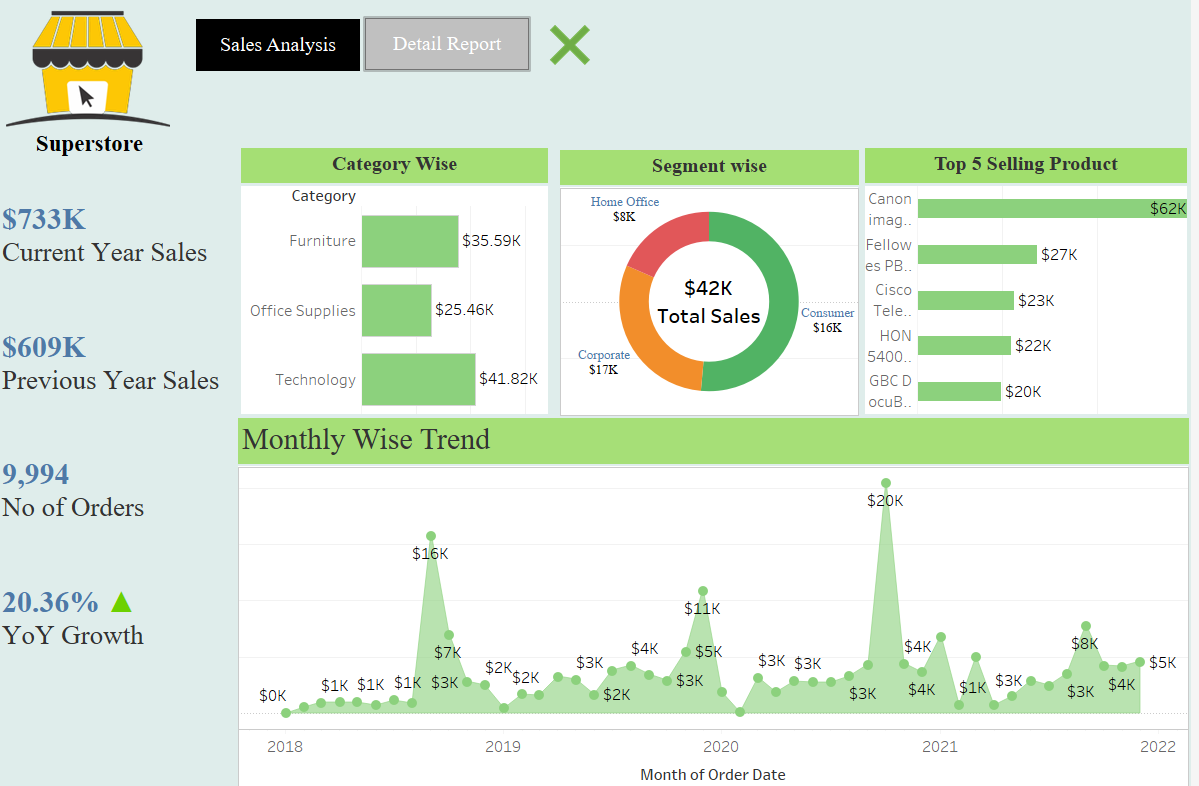

This screenshot's page, from the dashboard's own definition file:
{"tool":"tableau","page":{"name":"Dashboard 1","canvas":[1200,800],"ordinal":0},"visuals":[{"type":"filter","title":"Category wise","param":"[federated.0on2dsx0gz8hql1ee7brr0e7tiu2].[yr:Order Date:ok]","box":[636,7,168,122]},{"type":"filter","title":"Monthly Wise Trend","param":"[federated.0on2dsx0gz8hql1ee7brr0e7tiu2].[none:Region:nk]","box":[804,7,168,122]},{"type":"filter","title":"Monthly Wise Trend","param":"[federated.0on2dsx0gz8hql1ee7brr0e7tiu2].[none:Category:nk]","box":[972,7,168,122]},{"type":"image","param":"Image/image.png","box":[15,11,167,121]},{"type":"dashboard-object","box":[374,22,164,52]},{"type":"dashboard-object","box":[541,22,75,53]},{"type":"dashboard-object","box":[205,23,164,52]},{"type":"text","box":[26,132,145,32]},{"type":"worksheet","title":"Category wise","mark":"Automatic","rows":["Category"],"cols":["Sales"],"box":[250,152,311,266]},{"type":"worksheet","title":"Top 5 Selling Product","mark":"Bar","rows":["Product Name"],"cols":["Sales"],"box":[874,152,322,266]},{"type":"worksheet","title":"Segment wise","mark":"Pie","rows":["Calculation_1850698008361533440","Calculation_1850698008361533440"],"box":[569,154,299,266]},{"type":"worksheet","title":"KPI","mark":"Automatic","box":[7,207,239,512]},{"type":"worksheet","title":"Monthly Wise Trend","mark":"Area","rows":["Sales","Sales"],"cols":["Order Date"],"box":[247,422,951,375]}]}

Visuals, with their boxes in screenshot pixels (x1, y1, x2, y2), scaled from the page's 1200x800 canvas onto the 1199x786 screenshot:
"Category wise" filter: [635, 7, 803, 127]
"Monthly Wise Trend" filter: [803, 7, 971, 127]
"Monthly Wise Trend" filter: [971, 7, 1139, 127]
image: [15, 11, 182, 130]
dashboard-object: [374, 22, 538, 73]
dashboard-object: [541, 22, 615, 74]
dashboard-object: [205, 23, 369, 74]
text: [26, 130, 171, 161]
"Category wise" worksheet: [250, 149, 561, 411]
"Top 5 Selling Product" worksheet (Bar marks): [873, 149, 1195, 411]
"Segment wise" worksheet (Pie marks): [569, 151, 867, 413]
"KPI" worksheet: [7, 203, 246, 706]
"Monthly Wise Trend" worksheet (Area marks): [247, 415, 1197, 783]
